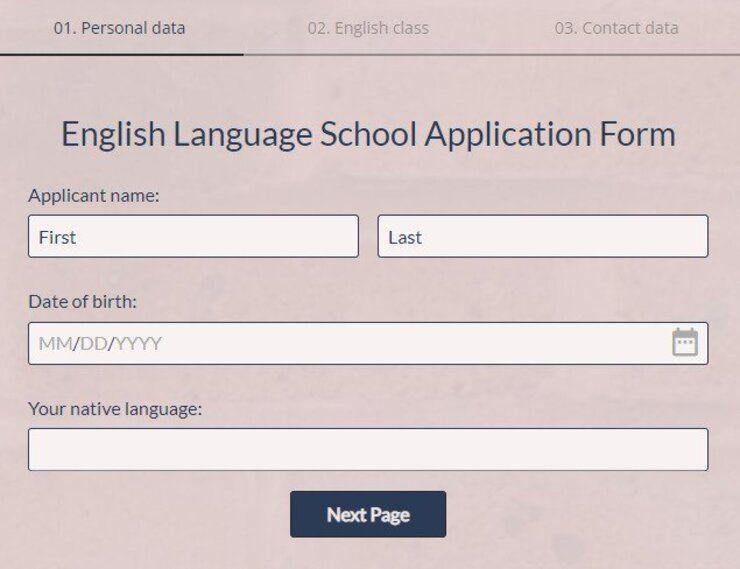button: (291, 492, 448, 539)
input: (31, 323, 709, 368), (30, 429, 708, 472), (378, 215, 712, 260), (31, 218, 360, 258)
label: (50, 105, 683, 161), (25, 396, 206, 426), (296, 15, 441, 43), (43, 15, 195, 41), (27, 187, 165, 211), (24, 290, 142, 317), (557, 19, 681, 41)
